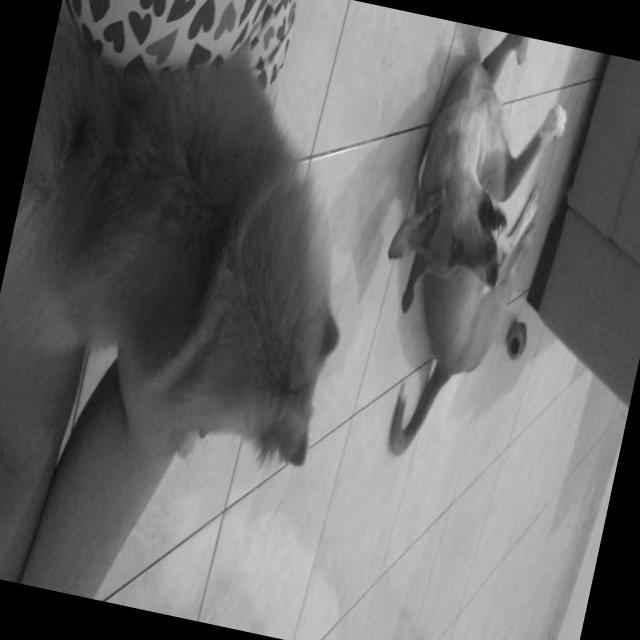laying down: (0, 15, 398, 484), (343, 18, 589, 488)
